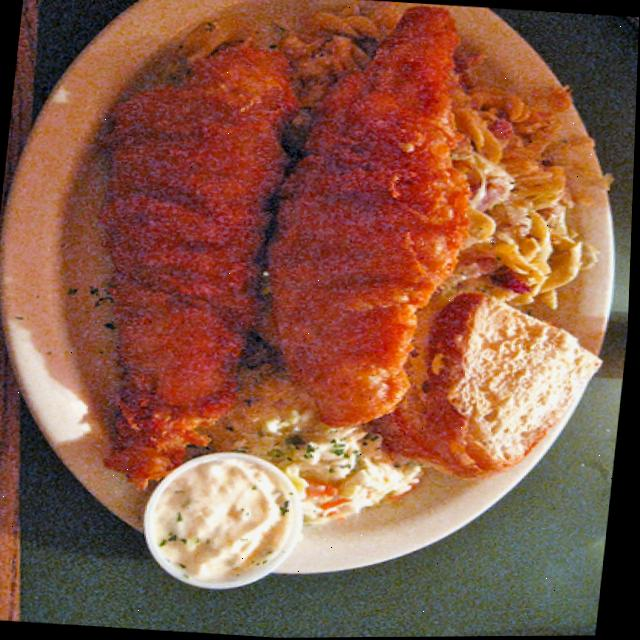炸货点心: (22, 24, 543, 444)
熟制海鲜: (22, 24, 543, 444)
